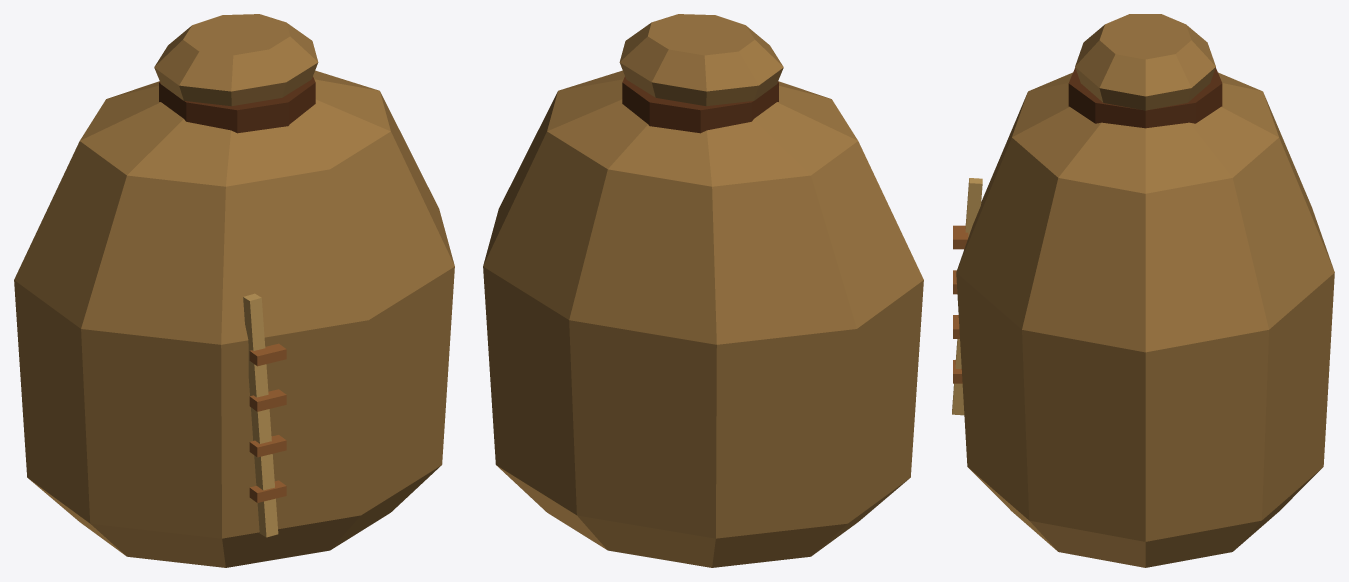
The model's file is sack.fbx.
The picture shows the model from 3 angles, left to right: view 1: azimuth 30°, elevation 25°; view 2: azimuth 150°, elevation 25°; view 3: azimuth 270°, elevation 25°; orthographic projection.
Parts seen in each view (by area): view 1: sack; view 2: sack; view 3: sack.
Boxes of the visible parts, x1,y1,x2,y2 form: sack: [14, 14, 454, 567]; sack: [483, 14, 923, 567]; sack: [952, 14, 1334, 567].
Bounding box in the file's own units: 0.4946 × 0.57 × 0.4264.
